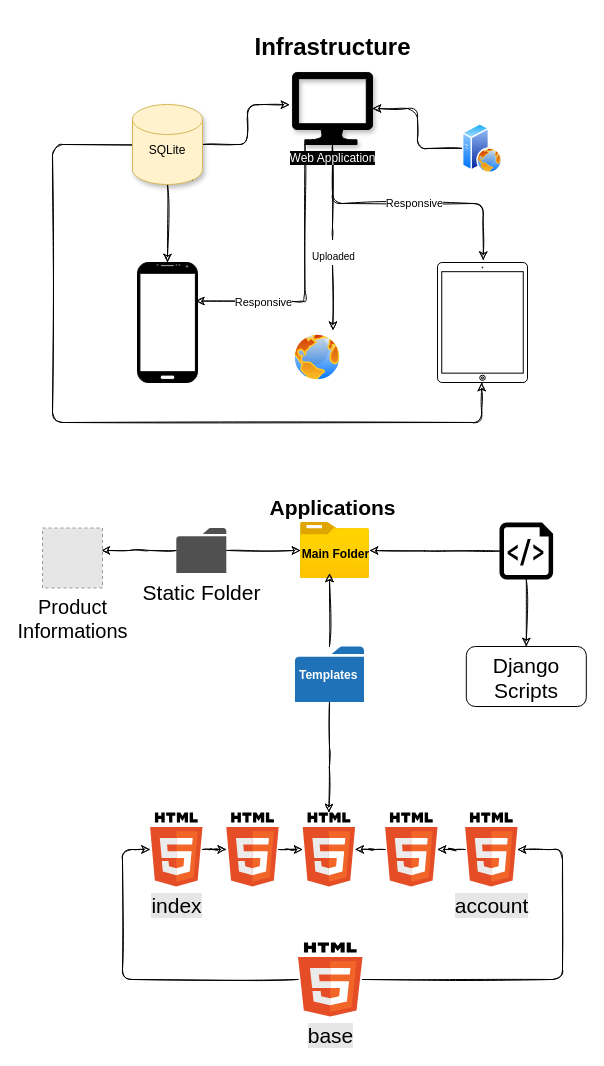
Some shapes in this 604 by 1066 pixel diagram are drawn without their labels. Grey dashed boxes stand in for pictures. Here are the shapes that lost their labels. From the top down, the centre of each, then its label:
At pixel 482 148: "Web Server".
At pixel 252 849: "about".
At pixel 328 849: "food".
At pixel 411 849: "contact".
